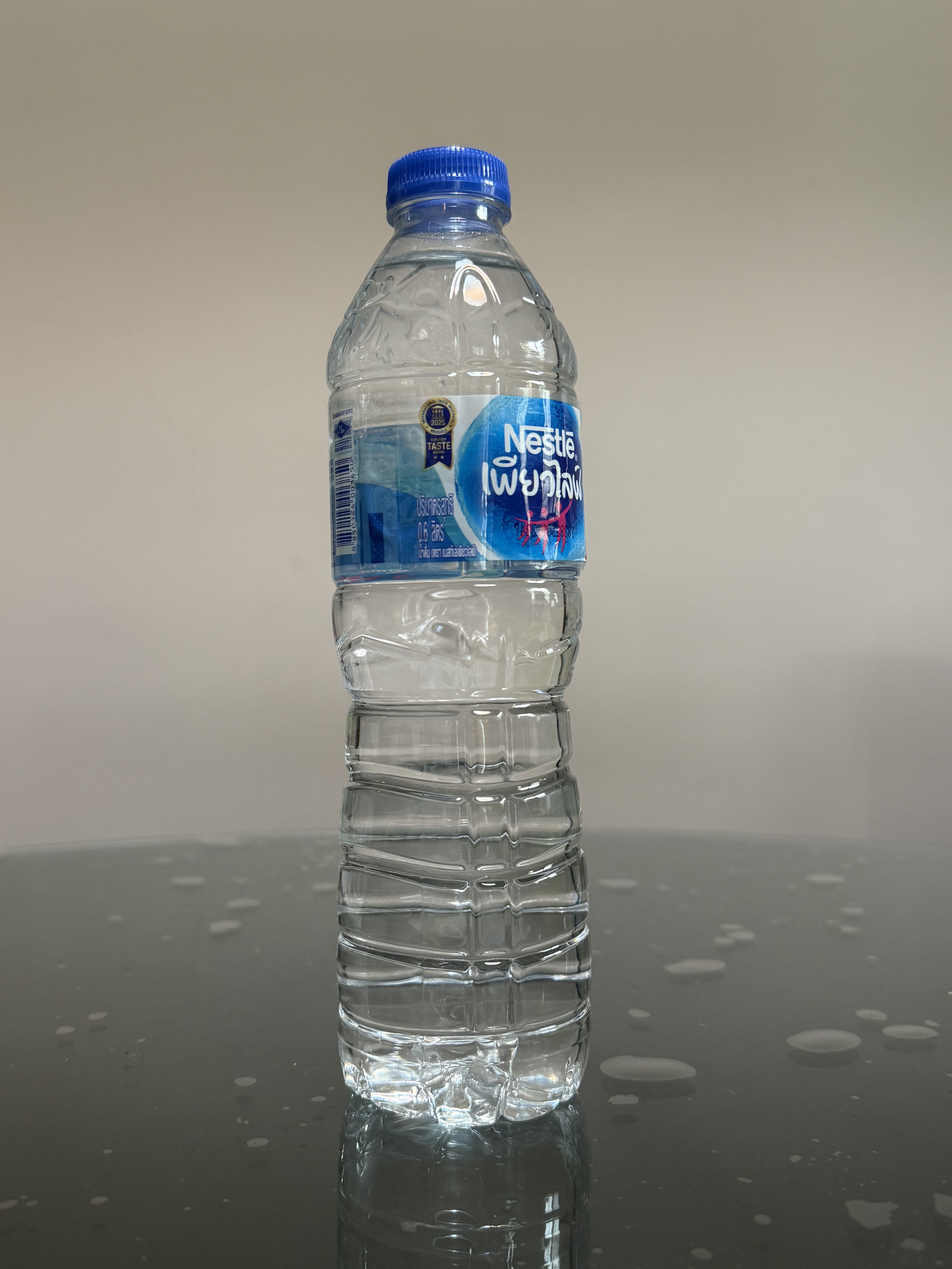closed_cap: (383, 142, 513, 226)
